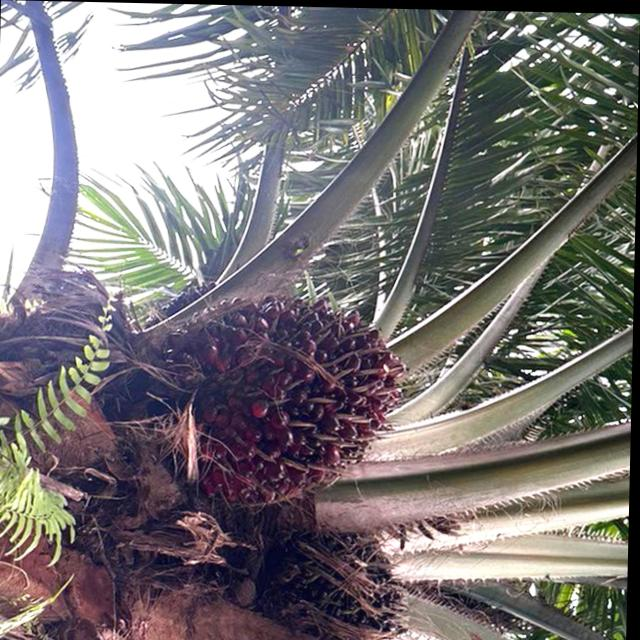ripe: (138, 264, 428, 527)
